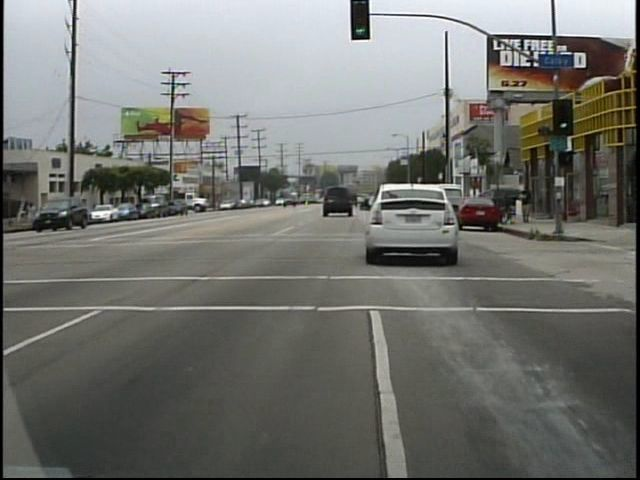person: (517, 179, 538, 230), (33, 199, 34, 229)
